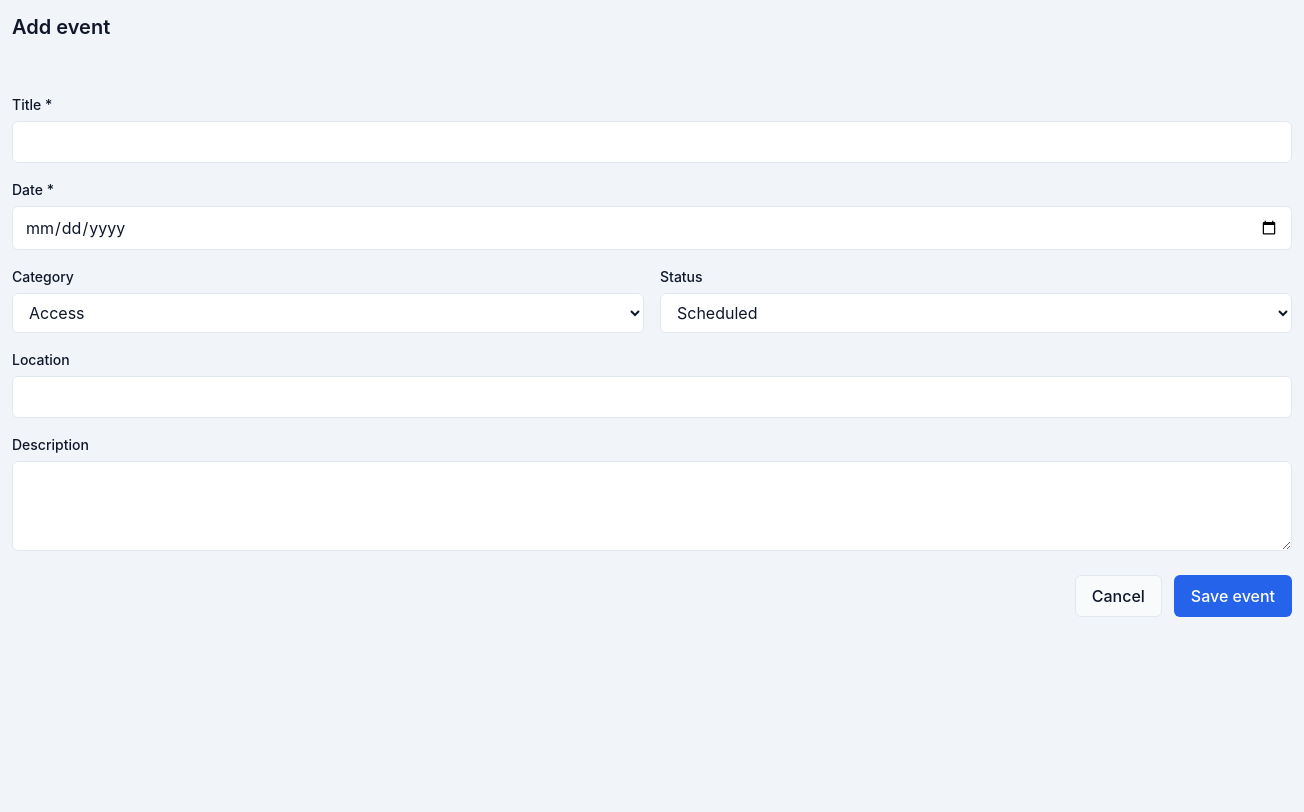
Test: EventForm › shows validation errors and focuses the title field on invalid submit
Click the button "Save event" at (1233, 596), box [1174, 575, 1292, 617]
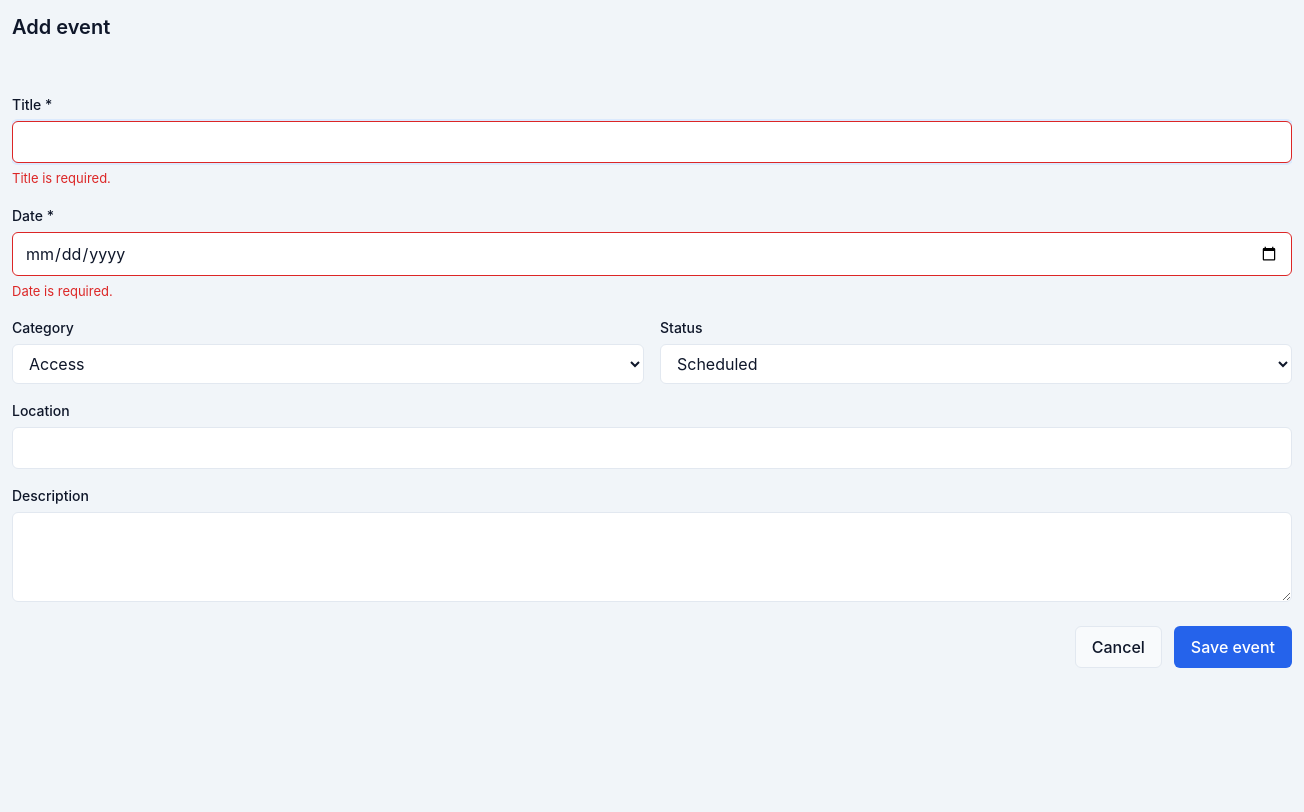
Expected: the text "Title is required." is shown, [12, 170, 111, 186]
